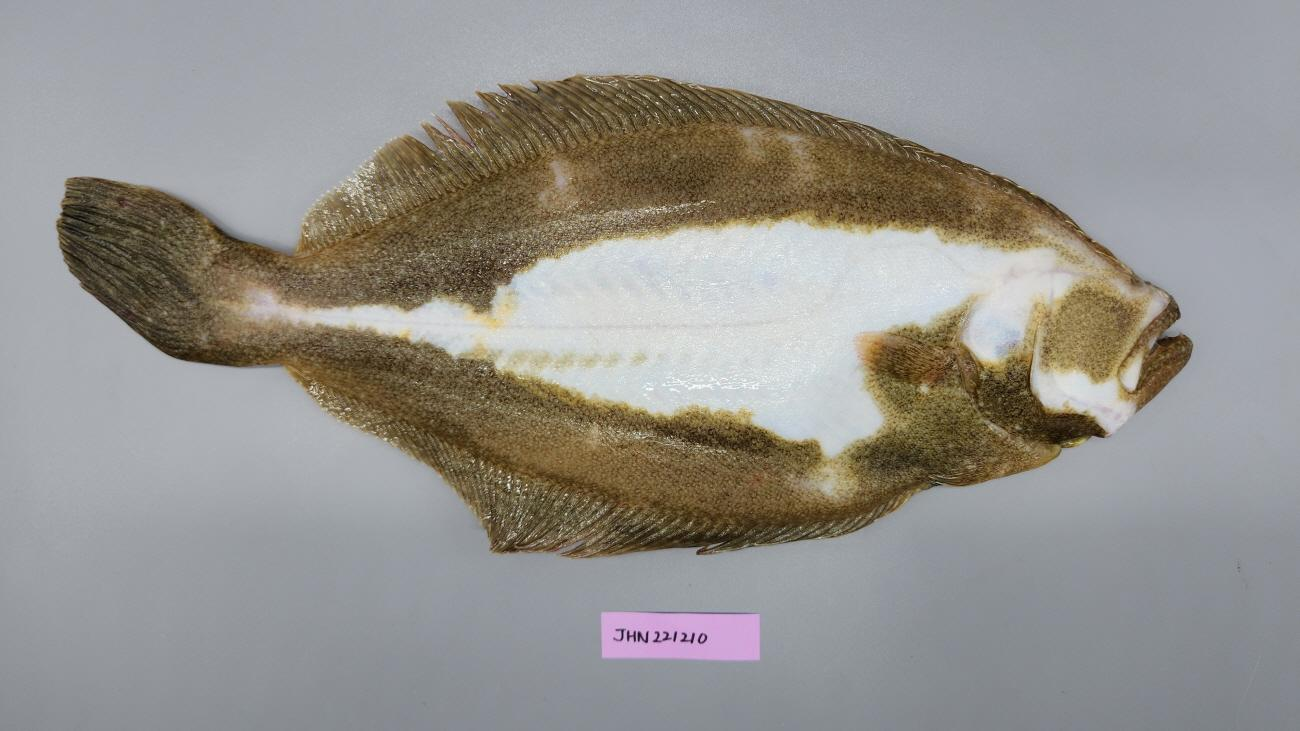POOUN: (54, 73, 1199, 558)
